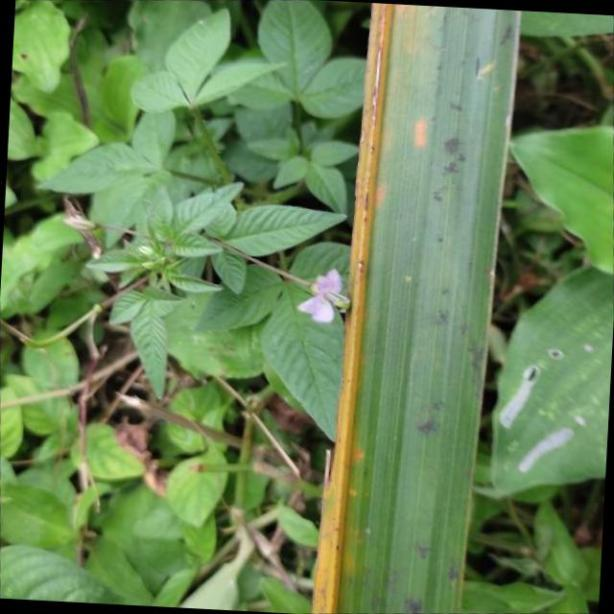Megnesium: (310, 0, 521, 614)
